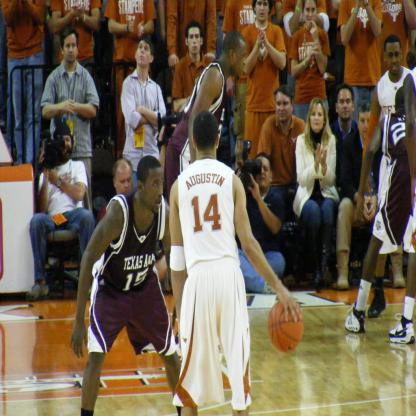Ball: (268, 301, 303, 353)
